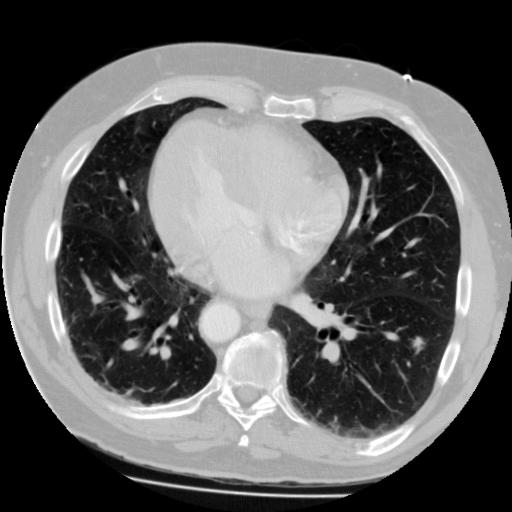nodule: (412, 334, 428, 350)
